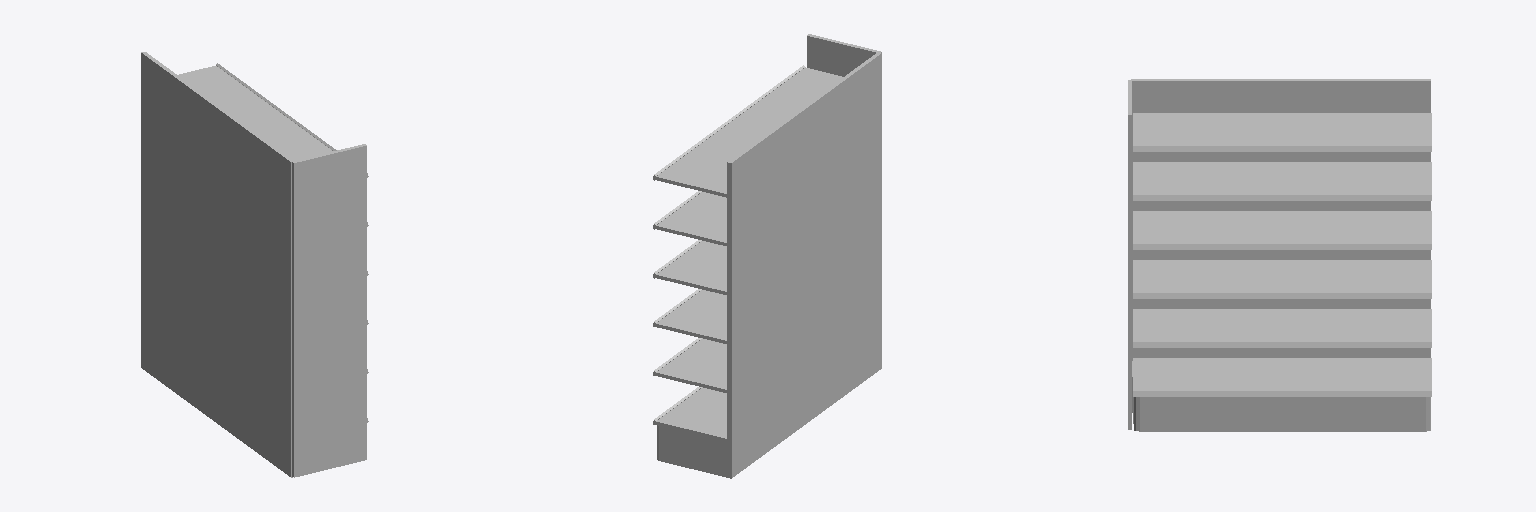
Rendered from Shelf_end_6.obj.
3 renders of one model, left to right at view 1: azimuth 30°, elevation 25°; view 2: azimuth 150°, elevation 25°; view 3: azimuth 270°, elevation 25°, orthographic.
Parts seen in each view (by area): view 1: Shelf_end_6_Cube.020; view 2: Shelf_end_6_Cube.020; view 3: Shelf_end_6_Cube.020.
Part boxes in pixels (left/top/right/bottom): Shelf_end_6_Cube.020: left=141, top=52, right=368, bottom=477; Shelf_end_6_Cube.020: left=653, top=34, right=881, bottom=478; Shelf_end_6_Cube.020: left=1128, top=79, right=1431, bottom=431.
Bounding box in the file's own units: 1.04 × 4 × 3.51.